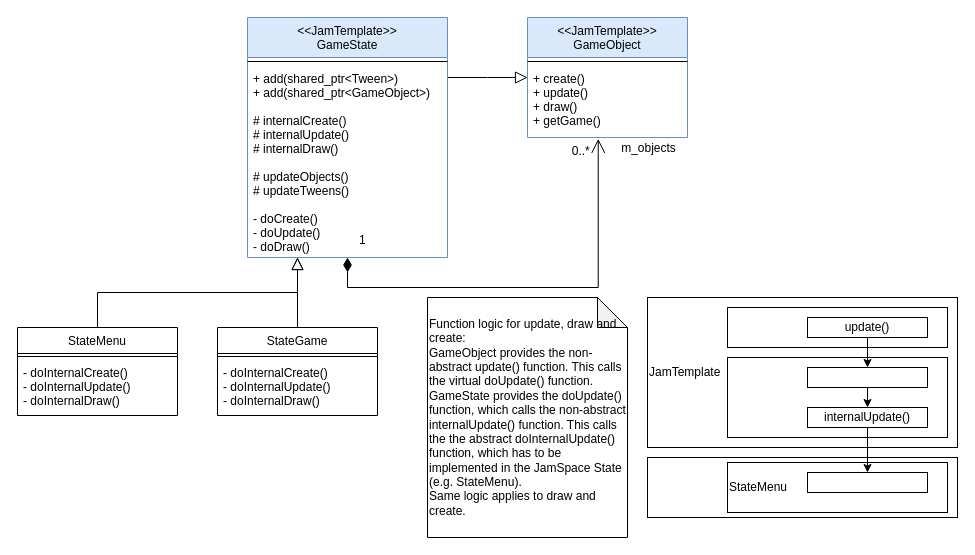
The diagram is 975 pixels wide and 555 high, and some of its shapes have lost their labels. Each missing label, with the box of its shape:
doInternalUpdate(): (806, 472, 928, 492)
doUpdate(): (806, 366, 928, 388)
GameObject: (726, 306, 948, 348)
GameState: (726, 356, 948, 438)
JamSpace: (646, 456, 958, 518)
